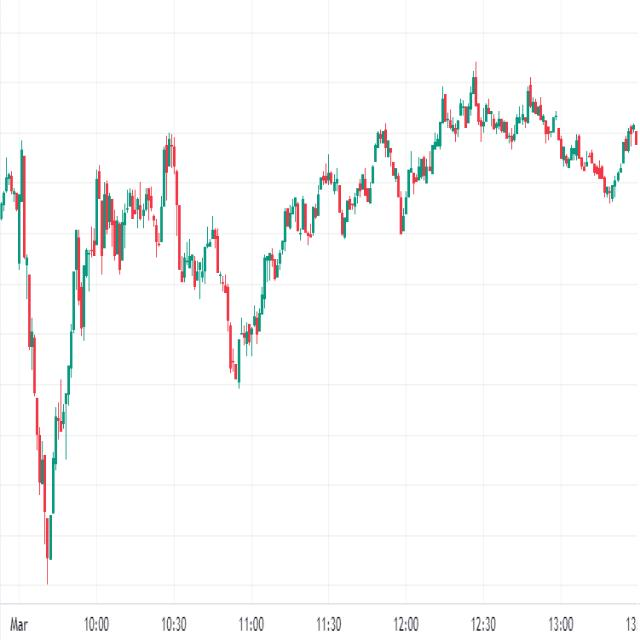Rising-Wedge: (195, 50, 490, 430)
